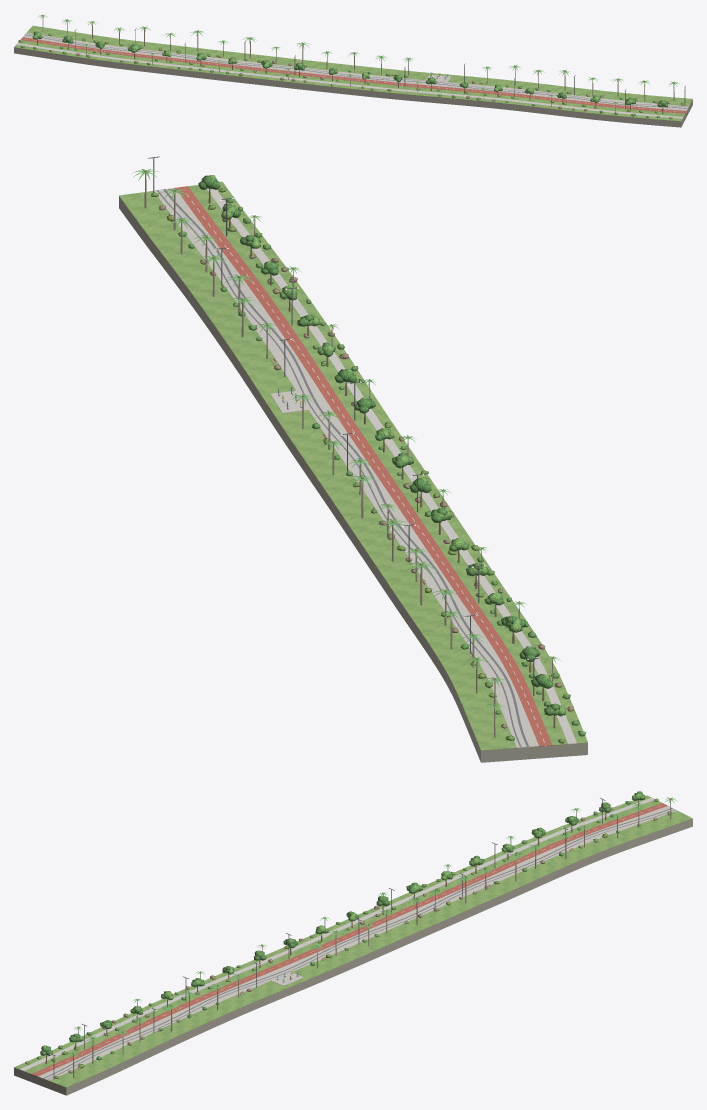
Rendered from parque_07.glb.
3 views of the same model, one above another, from view 1: azimuth 30°, elevation 25°; view 2: azimuth 150°, elevation 25°; view 3: azimuth 270°, elevation 25° (orthographic). The views are drawn at different scales.
Visible parts, largest first — view 1: parque_07; view 2: parque_07; view 3: parque_07.
Boxes of the visible parts, left/top/right/bottom form: parque_07: left=14, top=25, right=692, bottom=127; parque_07: left=119, top=156, right=587, bottom=762; parque_07: left=14, top=795, right=692, bottom=1095.
Size of the model in its own units: 233 by 13.52 by 229.
Materials: 23 (12 with a texture image).
